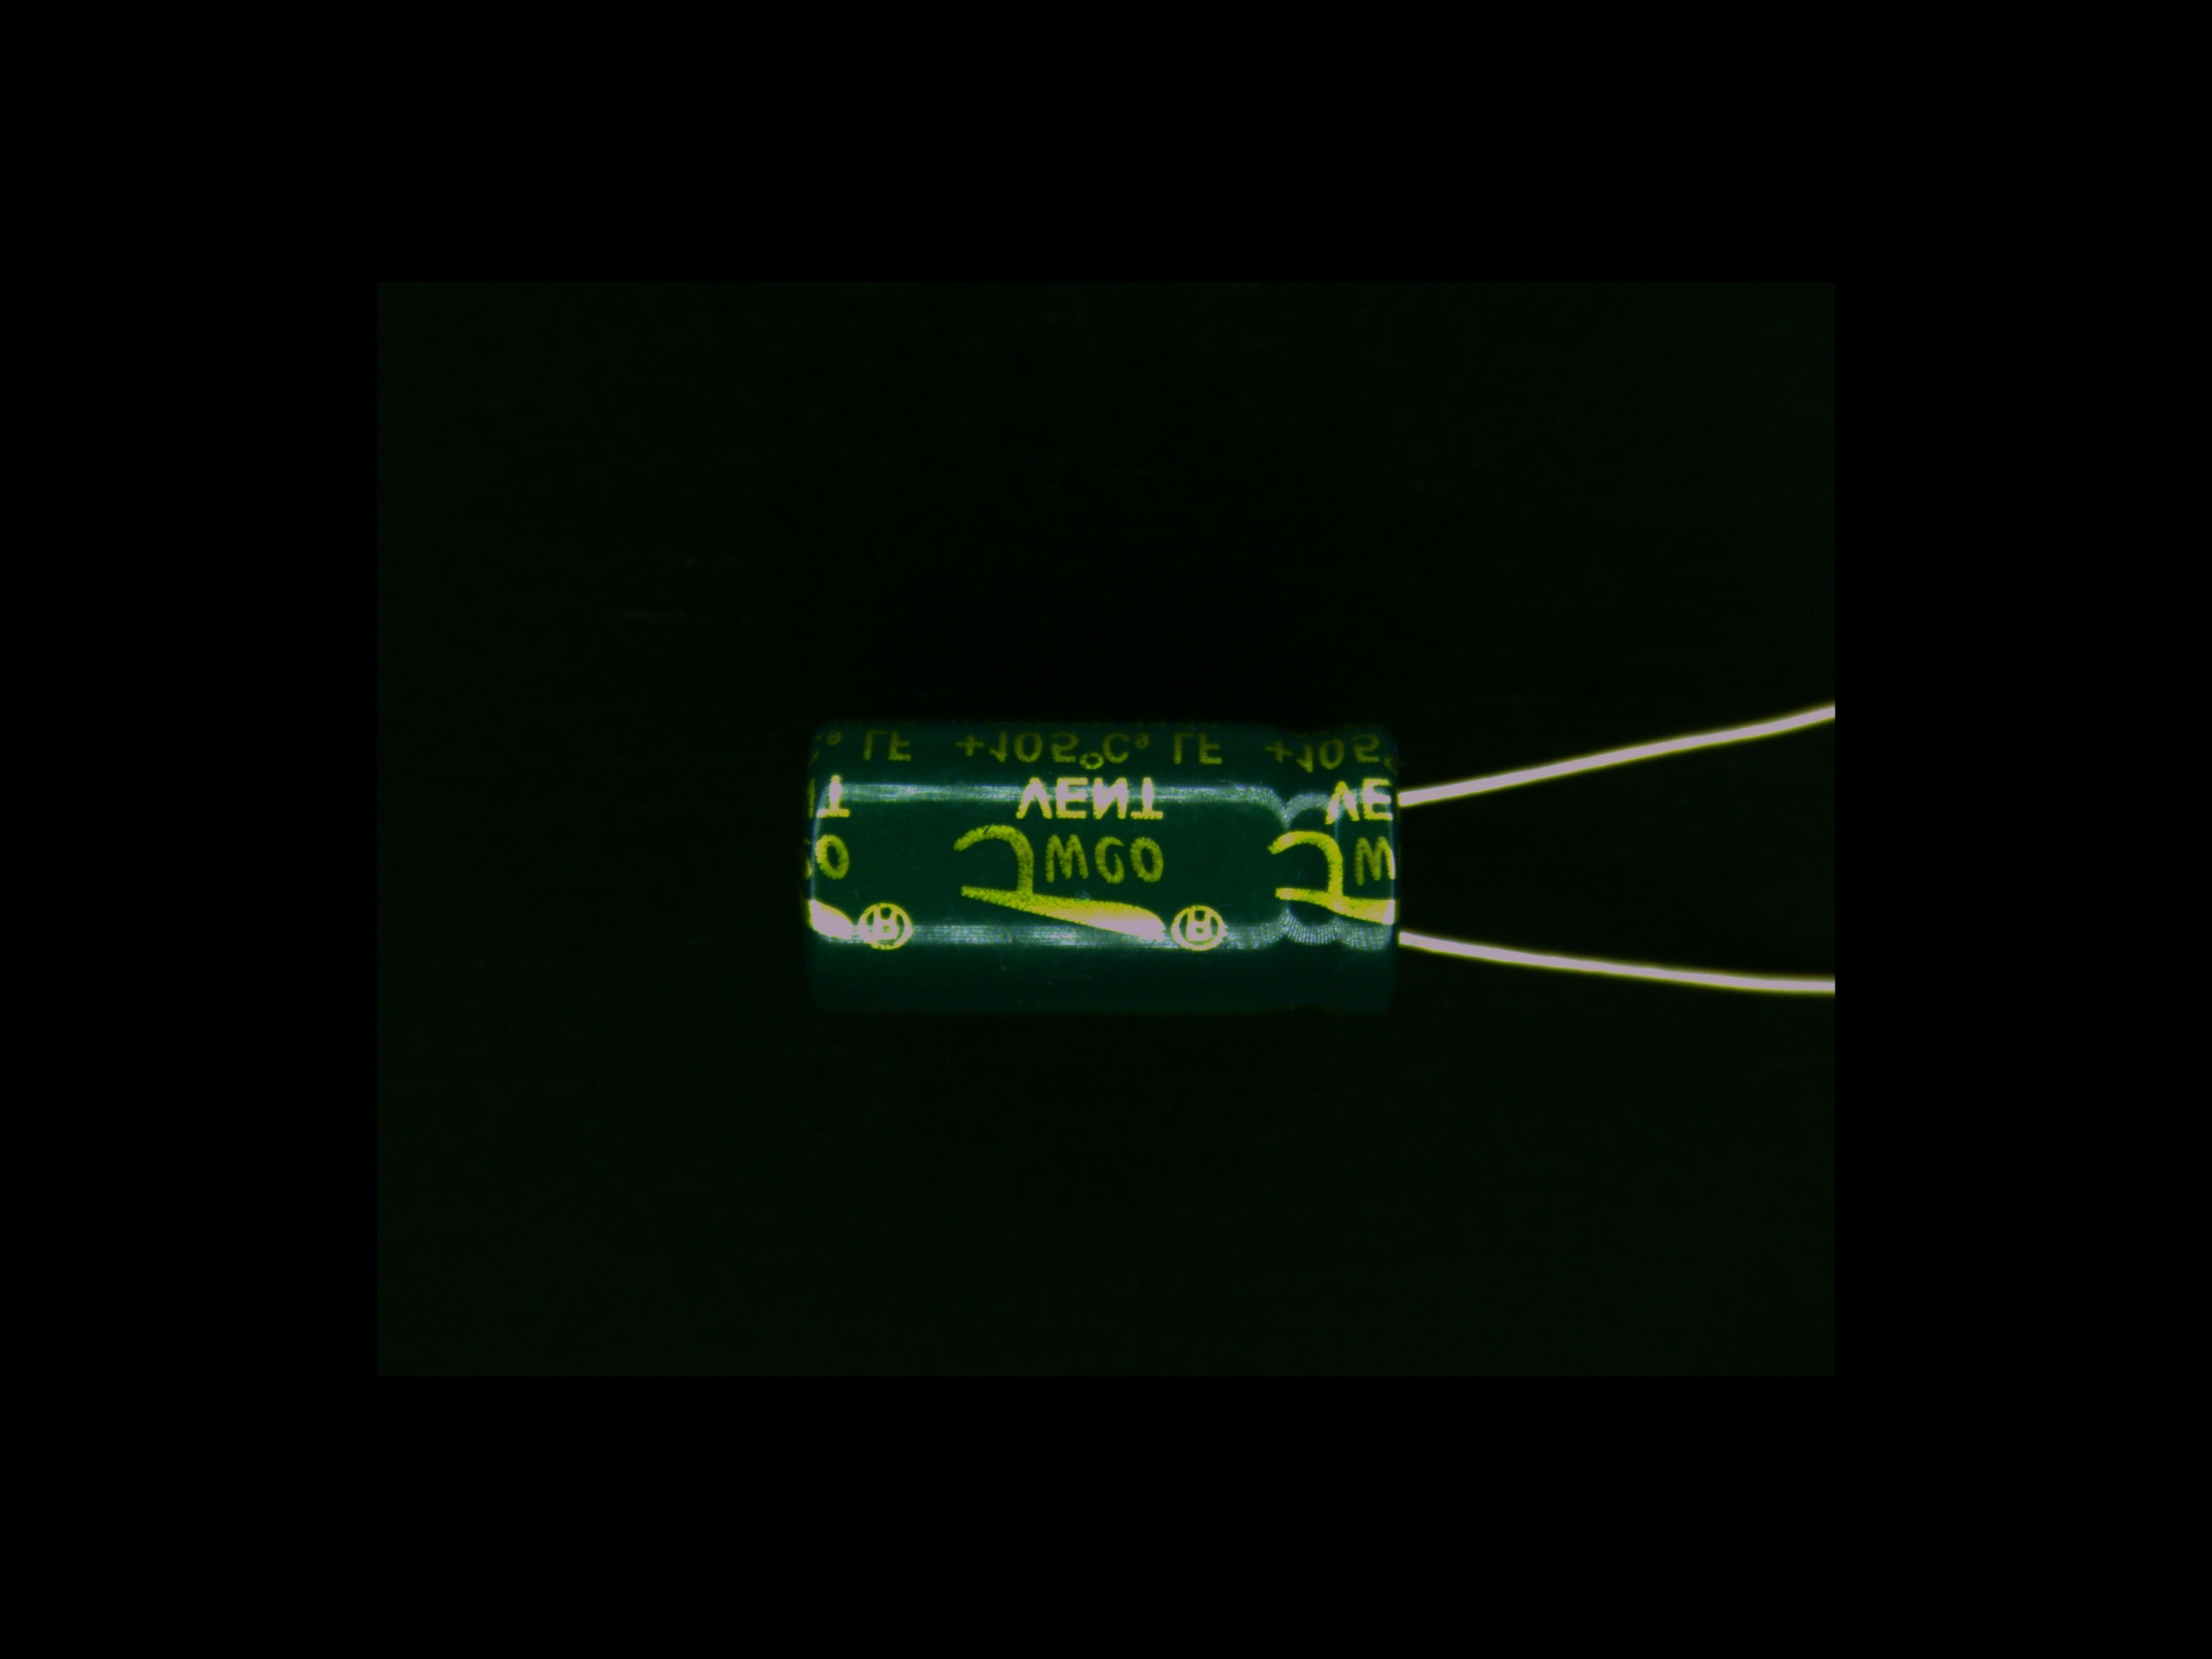c1: (799, 714, 1491, 1014)
